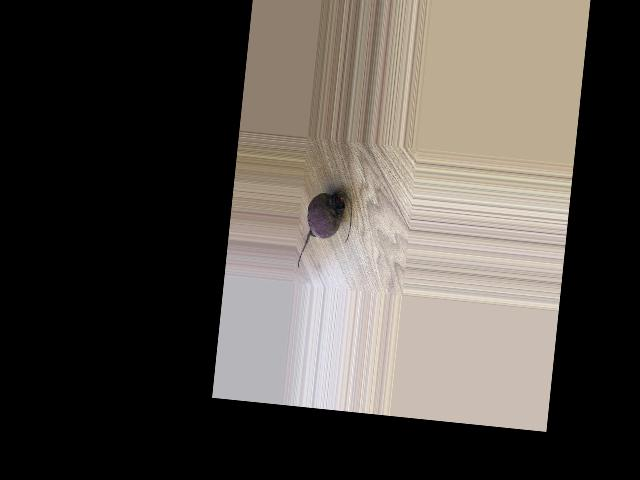beet: (297, 188, 353, 272)
